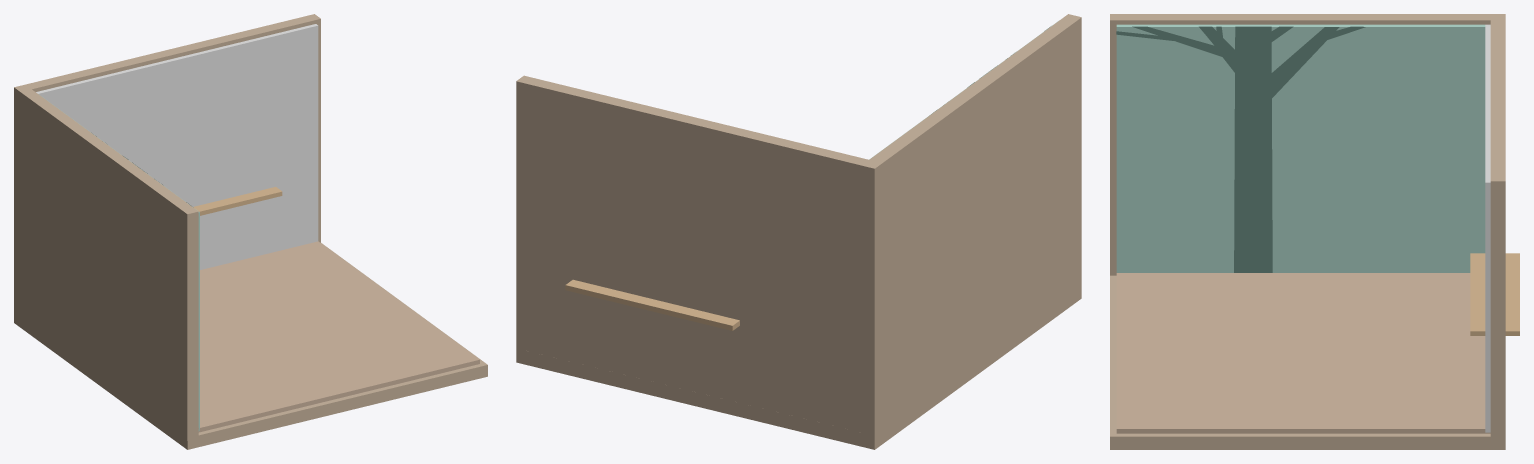
File: Furn2_wall_floor_color3.fbx
3 views of the same model, side by side, from view 1: azimuth 30°, elevation 25°; view 2: azimuth 150°, elevation 25°; view 3: azimuth 270°, elevation 25° (orthographic). The views are drawn at different scales.
Visible parts, largest first — view 1: Куб.036, Куб.035, Куб.084; view 2: Куб.036, Куб.035, Куб.084; view 3: Куб.036, Куб.035, Плоскость.009, Куб.084.
Part boxes in pixels (x1,y1,x2,y2): Куб.036: [14, 14, 320, 440]; Куб.035: [14, 241, 487, 449]; Куб.084: [193, 187, 282, 215]; Куб.036: [516, 14, 1081, 439]; Куб.035: [516, 288, 1081, 449]; Куб.084: [565, 279, 739, 330]; Куб.036: [1110, 14, 1505, 439]; Куб.035: [1110, 273, 1505, 449]; Плоскость.009: [1116, 26, 1365, 272]; Куб.084: [1470, 253, 1519, 335].
Size of what is drawn, in the model's own units: 911 by 682 by 943.
